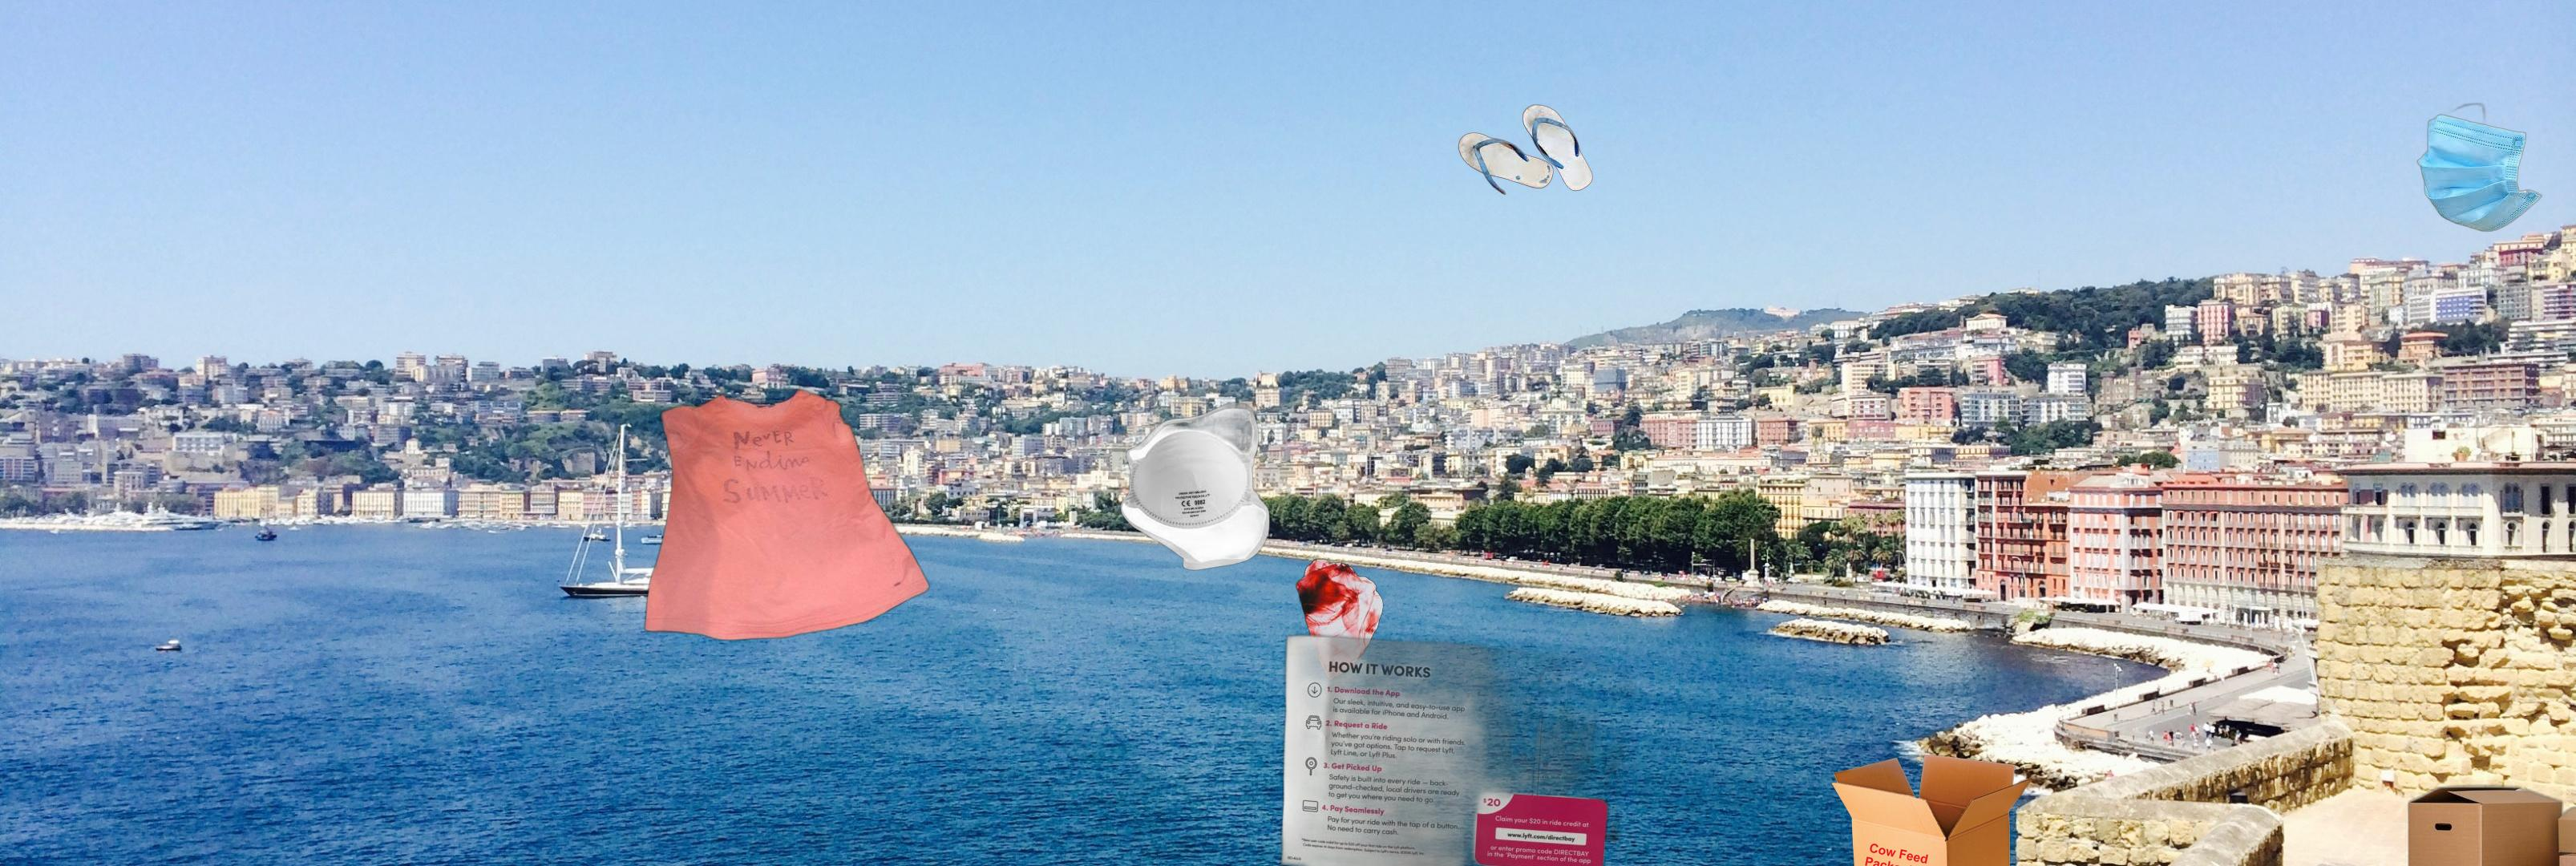clothes: (642, 386, 931, 644)
paper: (1272, 618, 1667, 866)
plastic-bag: (1295, 555, 1385, 682)
shoes: (1457, 102, 1595, 197)
trash: (1106, 396, 1283, 572), (2415, 102, 2543, 233)
trashbox-cardboard: (1832, 754, 2032, 866), (2353, 781, 2576, 866)
